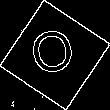O_S: (29, 26, 81, 84)
